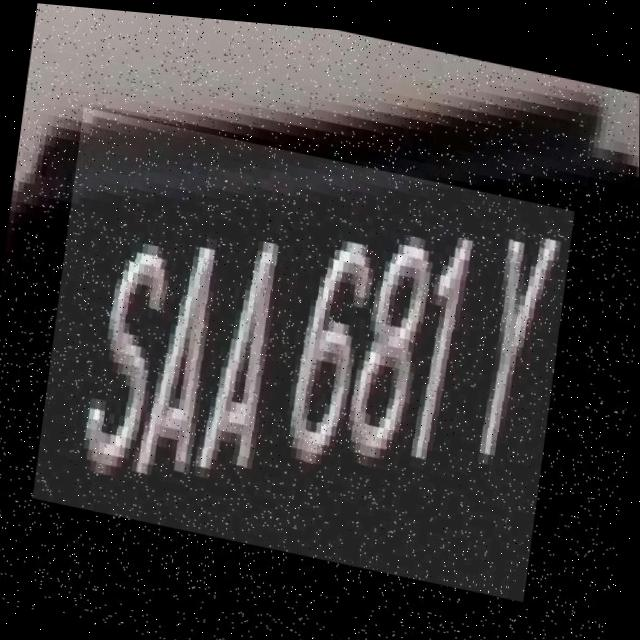LicensePlate: (32, 103, 575, 596)
